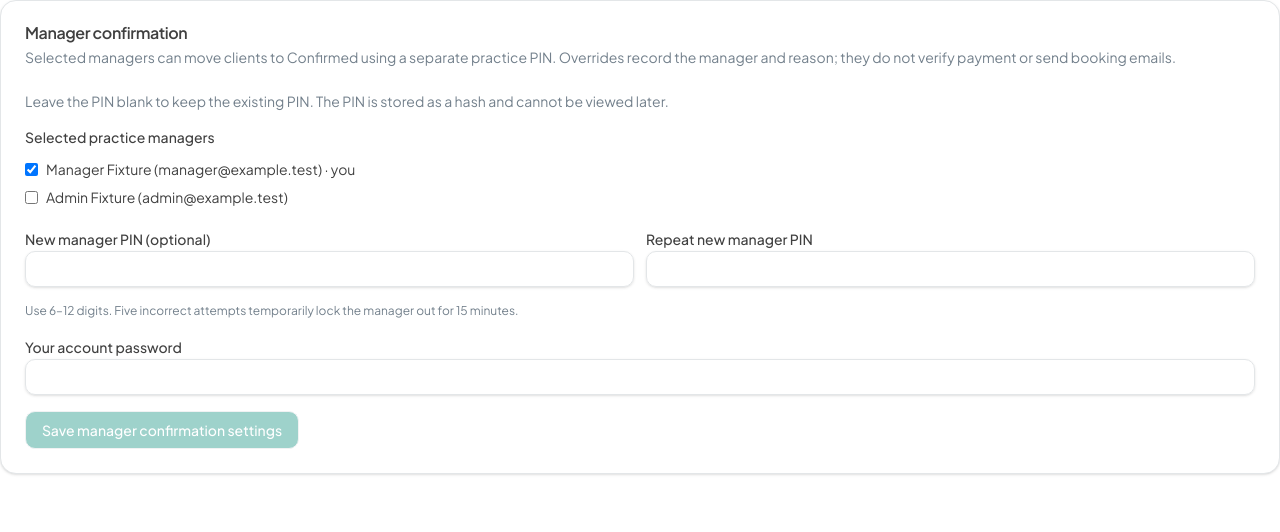
manager confirmation settings › keeps the current PIN when selected managers only change permissions
The image size is (1280, 532).
Expected: the password field labelled "New manager PIN (optional)" is shown, [25,251,634,287]
Type "account-fixture" into the password field labelled "Your account password" at [640, 377], box [25,359,1255,395]
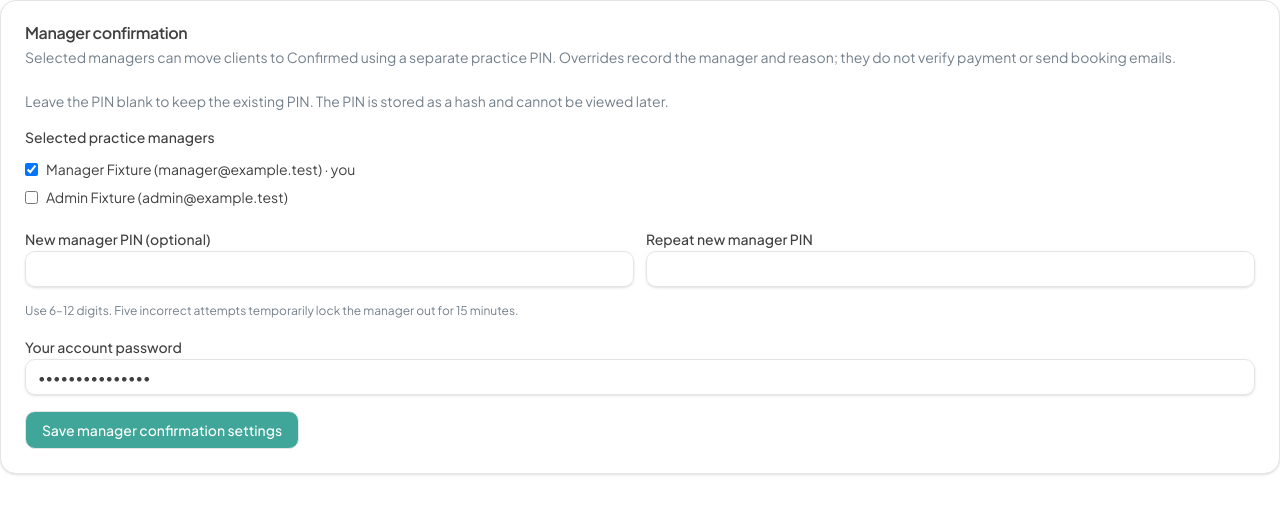
Click the button "Save manager confirmation settings" at [162, 430], box [25,411,299,449]
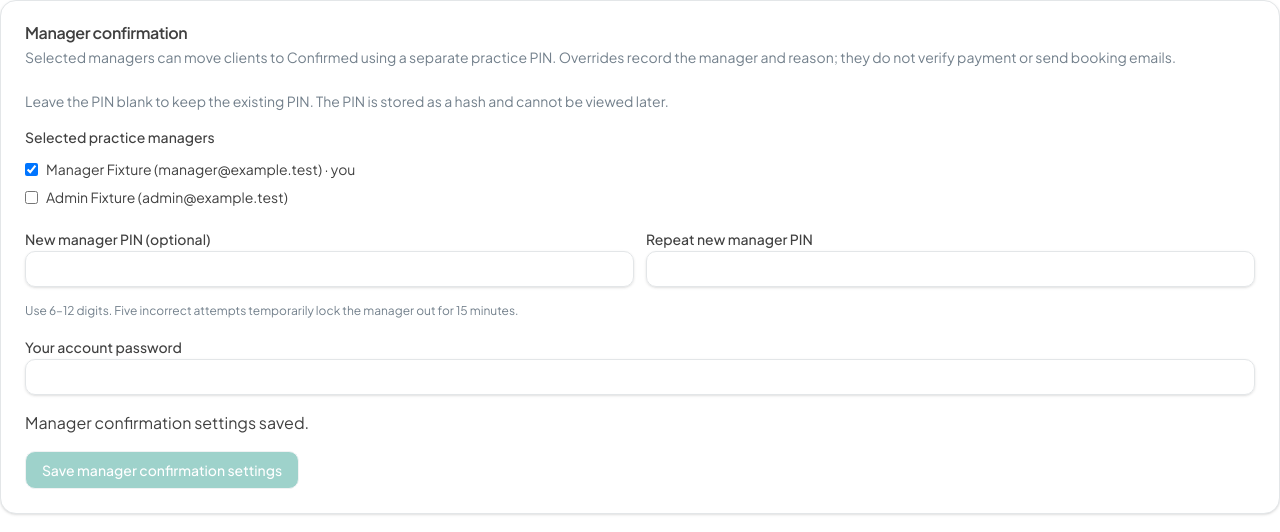
Expected: the message "Manager confirmation settings saved." is shown, [25,412,309,433]
